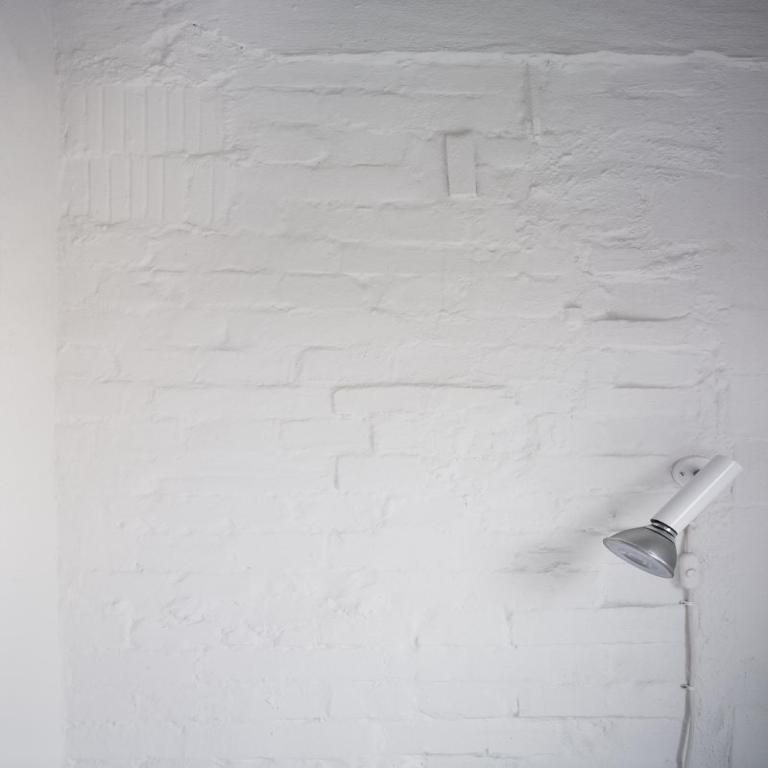white-walls: (77, 78, 734, 655)
